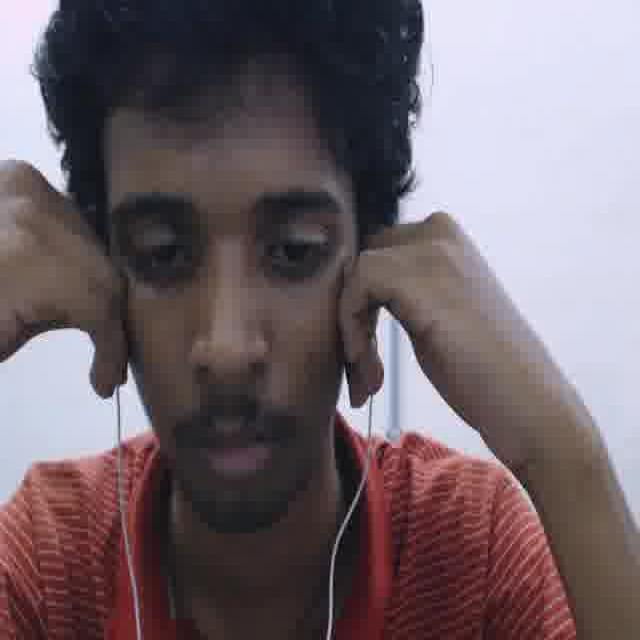Frustration: (98, 81, 352, 516)
